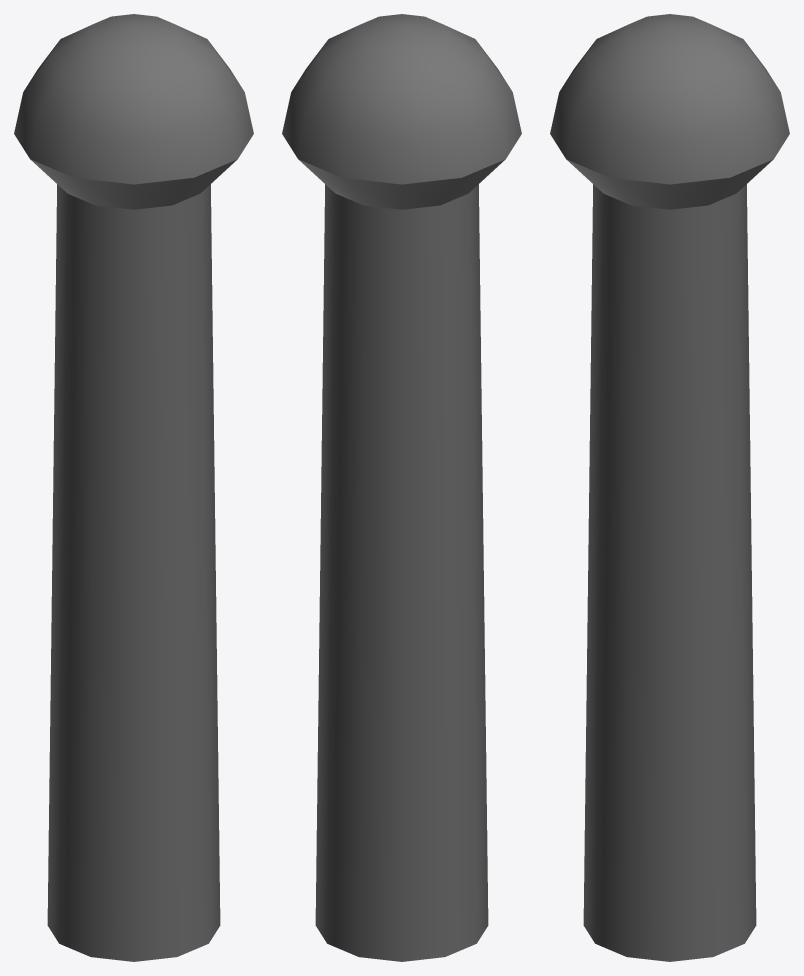
The model's file is Eridani_DockingMechanism_1_Probe.obj.
3 renders of one model, left to right at view 1: azimuth 30°, elevation 25°; view 2: azimuth 150°, elevation 25°; view 3: azimuth 270°, elevation 25°, orthographic.
Parts seen in each view (by area): view 1: Eridani_DockingMechanism_1_Probe; view 2: Eridani_DockingMechanism_1_Probe; view 3: Eridani_DockingMechanism_1_Probe.
Boxes of the visible parts, <box> form: Eridani_DockingMechanism_1_Probe: <box>14,14,253,961</box>; Eridani_DockingMechanism_1_Probe: <box>282,14,521,961</box>; Eridani_DockingMechanism_1_Probe: <box>550,14,789,961</box>.
Size of the model in its own units: 0.0625 by 0.2587 by 0.0625.
